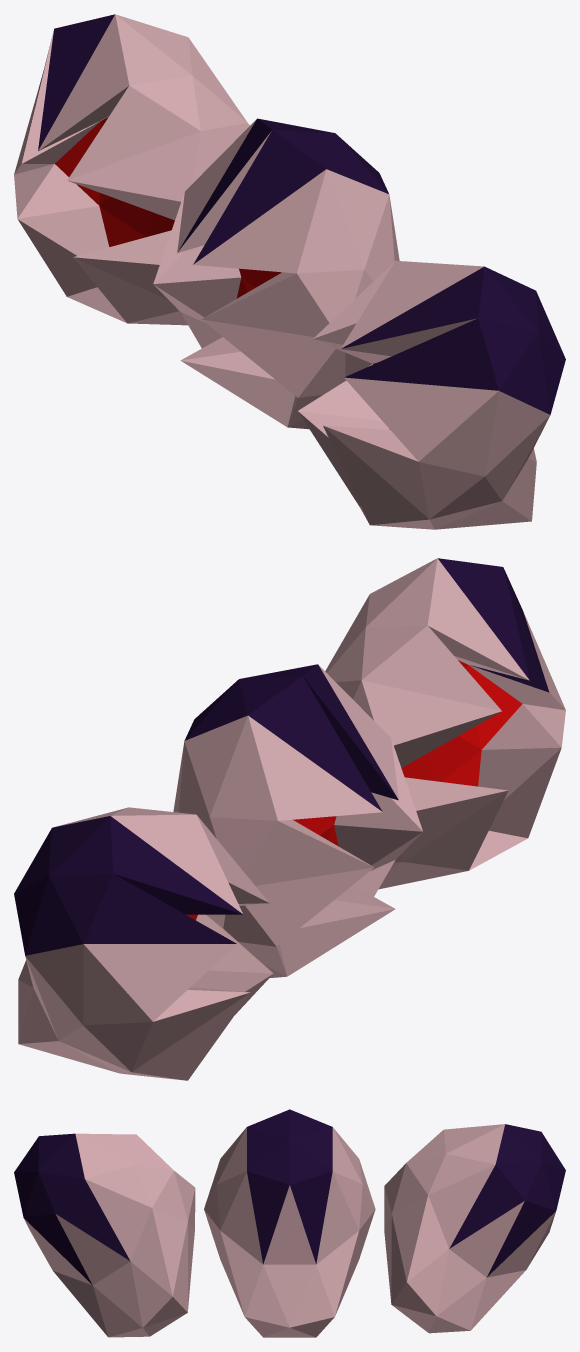
The model's file is boss1.obj.
3 views of the same model, one above another, from view 1: azimuth 30°, elevation 25°; view 2: azimuth 150°, elevation 25°; view 3: azimuth 270°, elevation 25° (orthographic). The views are drawn at different scales.
Visible parts, largest first — view 1: Icosphere.001, Icosphere, Icosphere.002; view 2: Icosphere.002, Icosphere, Icosphere.001; view 3: Icosphere.002, Icosphere, Icosphere.001.
Part boxes in pixels (bbox=[...]): Icosphere.001: bbox=[298, 260, 565, 529]; Icosphere: bbox=[153, 118, 399, 429]; Icosphere.002: bbox=[14, 14, 249, 325]; Icosphere.002: bbox=[14, 807, 273, 1080]; Icosphere: bbox=[173, 664, 422, 978]; Icosphere.001: bbox=[325, 558, 565, 889]; Icosphere.002: bbox=[384, 1124, 565, 1333]; Icosphere: bbox=[204, 1109, 375, 1337]; Icosphere.001: bbox=[14, 1133, 195, 1337].
Bounding box in the file's own units: 2.22 × 2.59 × 6.43.
